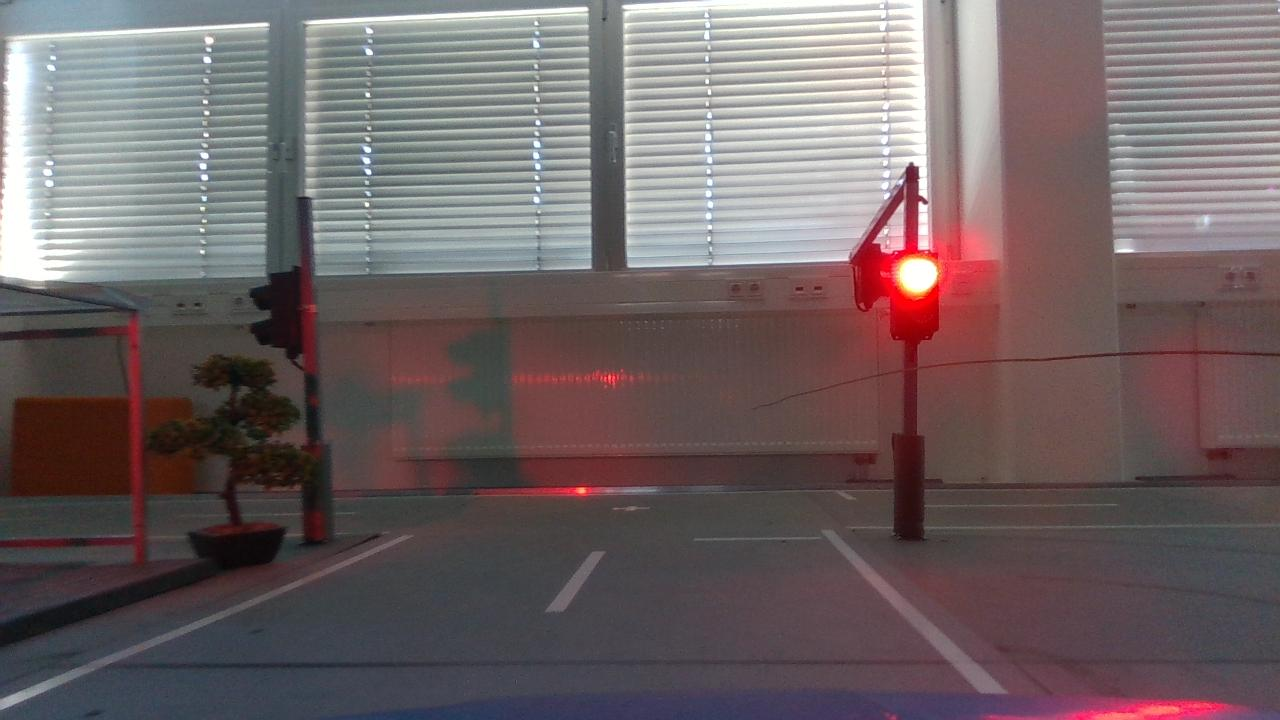traffic_light_red: (882, 244, 952, 357)
